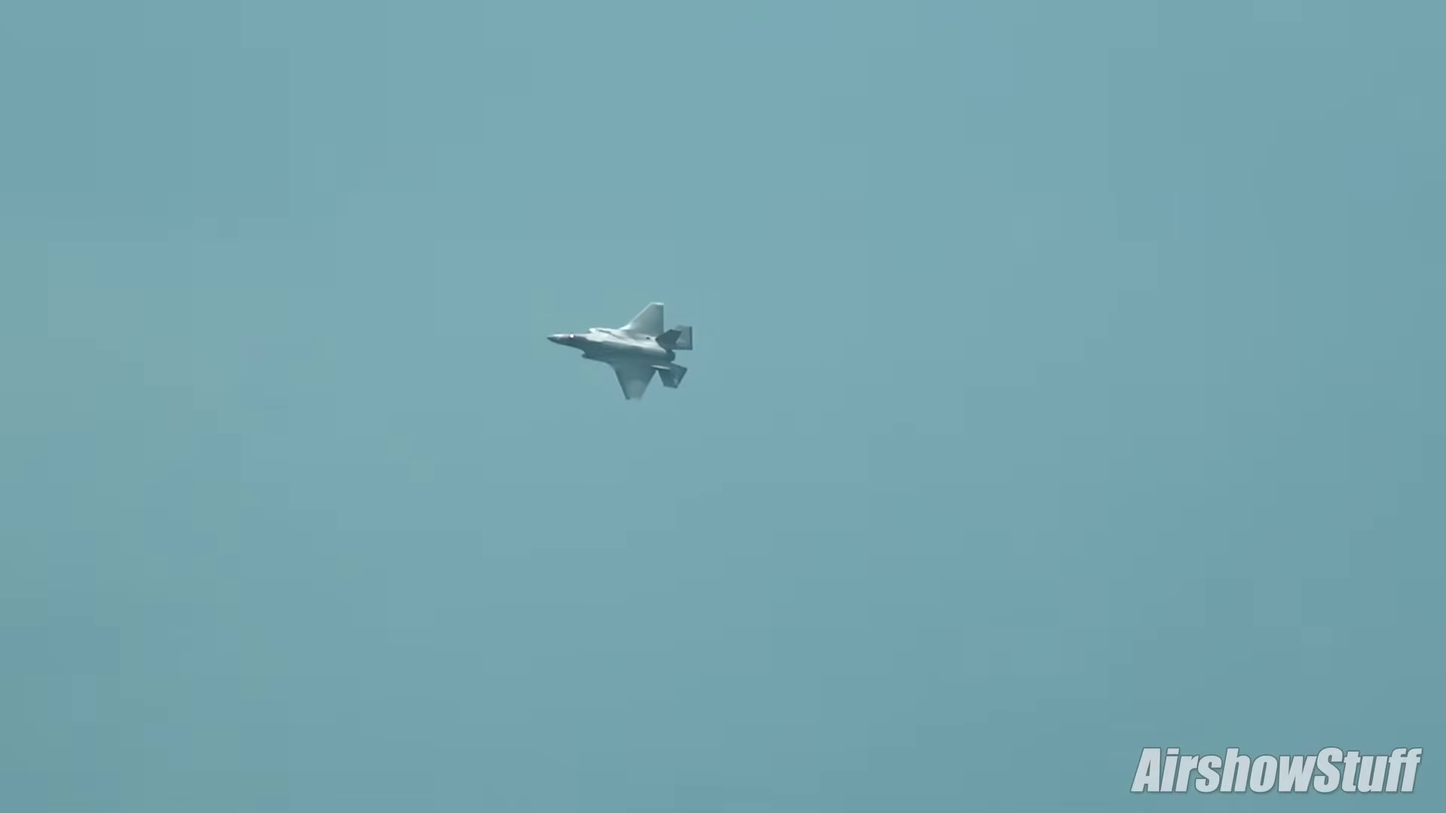F35: (545, 300, 694, 403)
